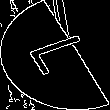L_NE: (16, 30, 94, 80)
